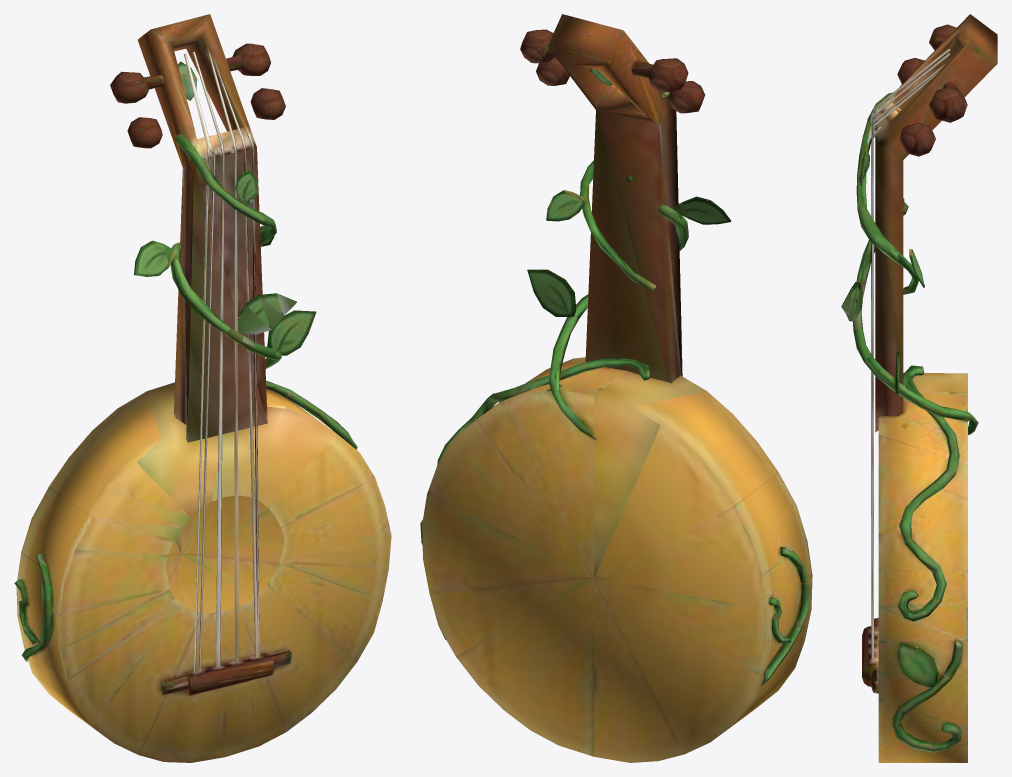
Rendered from item-gourdLute.glb.
The picture shows the model from 3 angles, left to right: view 1: azimuth 30°, elevation 25°; view 2: azimuth 150°, elevation 25°; view 3: azimuth 270°, elevation 25°; orthographic projection. The views are drawn at different scales.
Size of the model in its own units: 0.4883 by 0.9517 by 0.1885.
1 material, 1 textured.
